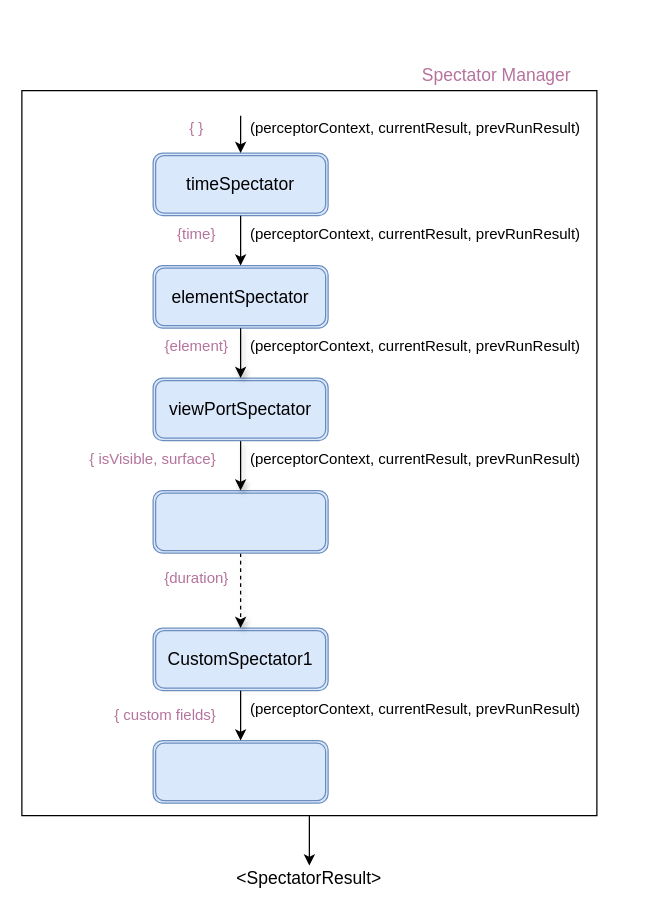
Some shapes in this 656 by 911 pixel diagram are drawn without their labels. The centre of each missing label's shape, as x and y in pixels:
CustomSpectatorN: (240,771)
durationSpectator: (240,521)
